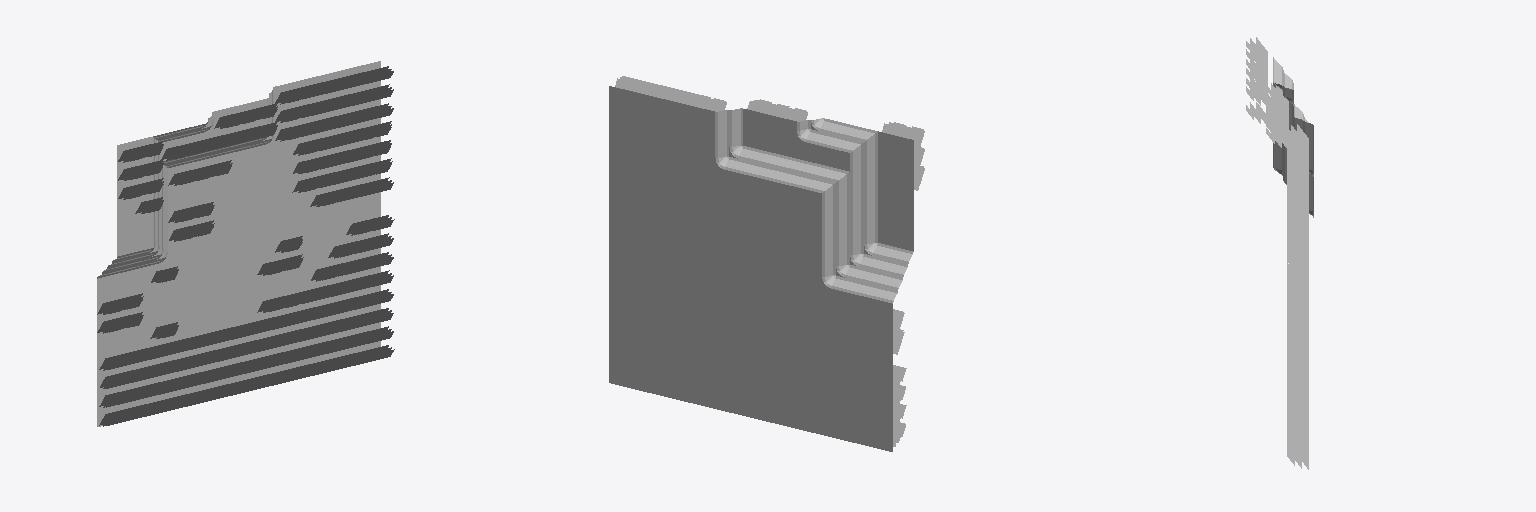
File: Plat_full_09_01.obj
3 views of the same model, side by side, from view 1: azimuth 30°, elevation 25°; view 2: azimuth 150°, elevation 25°; view 3: azimuth 270°, elevation 25° (orthographic).
Visible parts, largest first — view 1: map; view 2: map; view 3: map.
Part boxes in pixels (bbox=[...]): map: bbox=[97, 61, 394, 426]; map: bbox=[609, 76, 924, 451]; map: bbox=[1246, 37, 1313, 469].
Size of the model in its own units: 32.5 by 32.12 by 6.64.